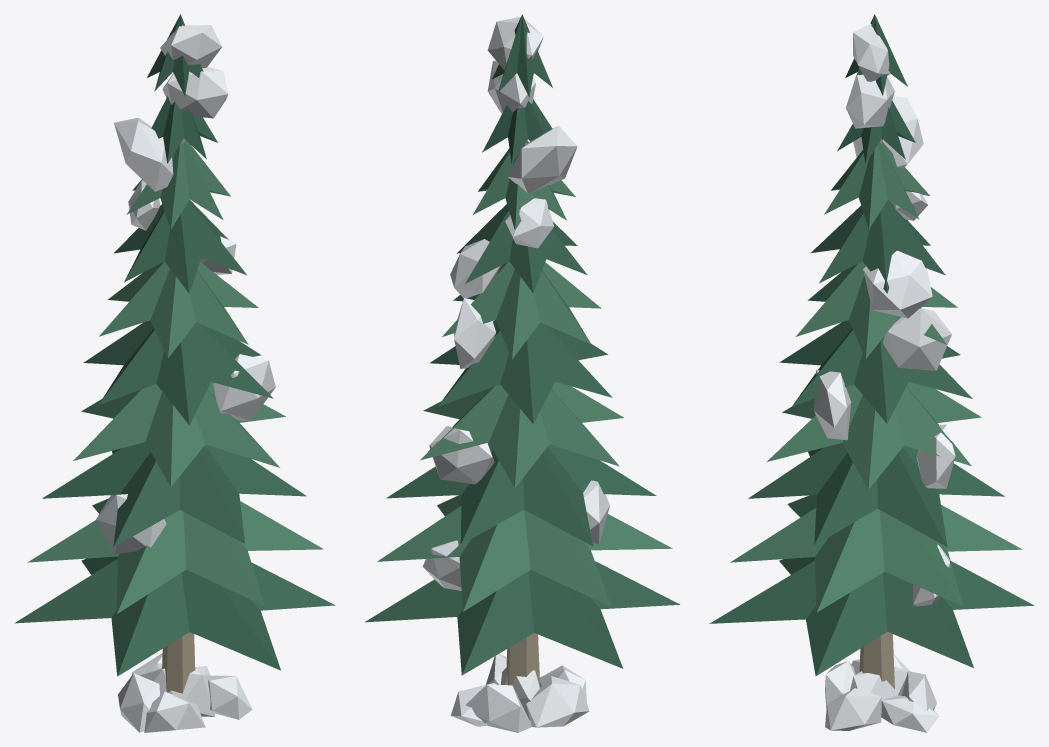
The model's file is SM_Tree_Conifer_Winter_05.glb.
3 views of the same model, side by side, from view 1: azimuth 30°, elevation 25°; view 2: azimuth 150°, elevation 25°; view 3: azimuth 270°, elevation 25° (orthographic).
Parts seen in each view (by area): view 1: SM_Tree_Conifer_Winter_05; view 2: SM_Tree_Conifer_Winter_05; view 3: SM_Tree_Conifer_Winter_05.
Boxes of the visible parts, left/top/right/bottom form: SM_Tree_Conifer_Winter_05: left=14, top=14, right=335, bottom=732; SM_Tree_Conifer_Winter_05: left=365, top=14, right=679, bottom=732; SM_Tree_Conifer_Winter_05: left=709, top=14, right=1034, bottom=732.
Bounding box in the file's own units: 2.73 × 6.98 × 2.96.
